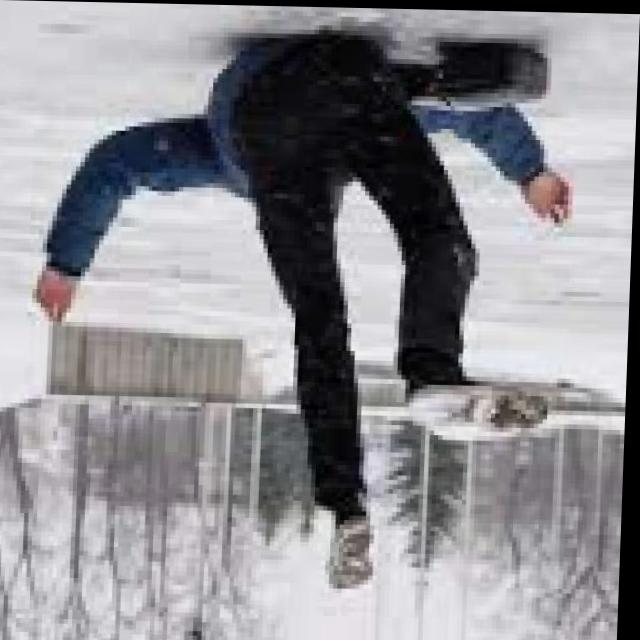fall: (22, 32, 590, 595)
